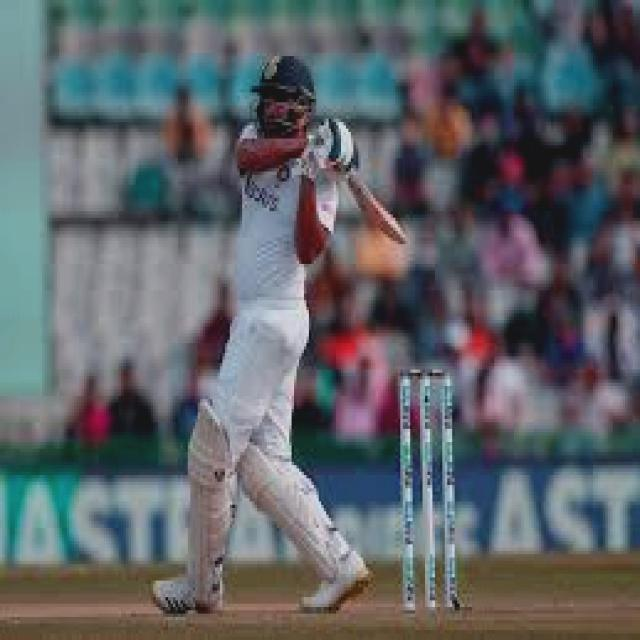toe: (384, 218, 408, 245)
